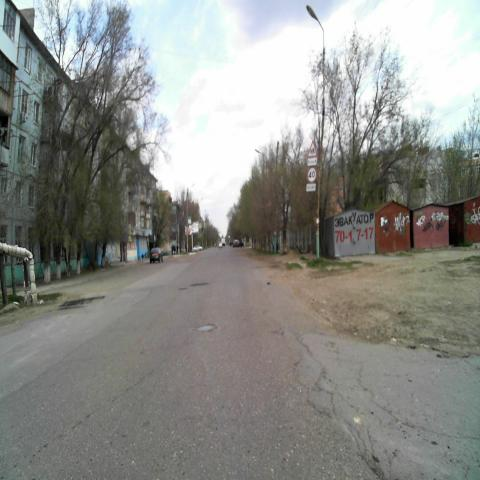1_23: (308, 143, 316, 157)
